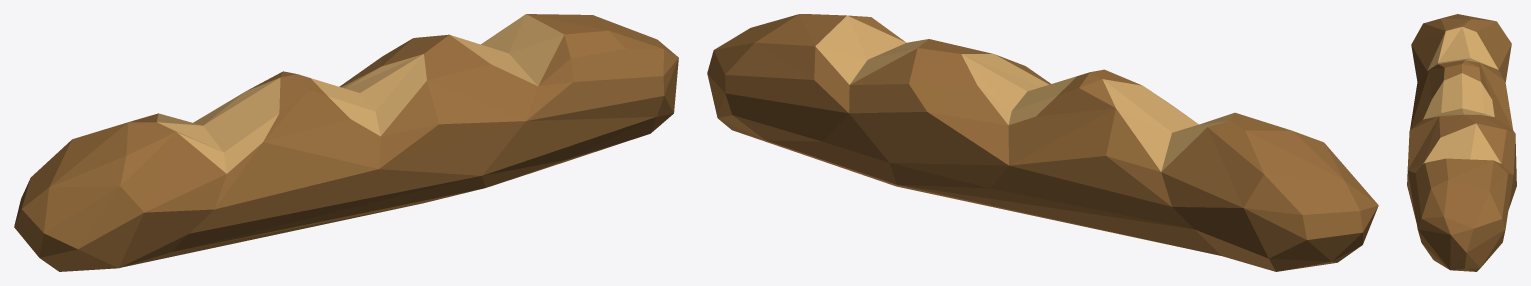
The model's file is fantasy_food_bread.fbx.
The picture shows the model from 3 angles, left to right: view 1: azimuth 30°, elevation 25°; view 2: azimuth 150°, elevation 25°; view 3: azimuth 270°, elevation 25°; orthographic projection. The views are drawn at different scales.
Visible parts, largest first — view 1: Cylinder.023; view 2: Cylinder.023; view 3: Cylinder.023.
Boxes of the visible parts, x1,y1,x2,y2 form: Cylinder.023: [14, 14, 678, 271]; Cylinder.023: [707, 14, 1378, 271]; Cylinder.023: [1407, 14, 1516, 271].
Bounding box in the file's own units: 64.5 × 13.88 × 13.66.
